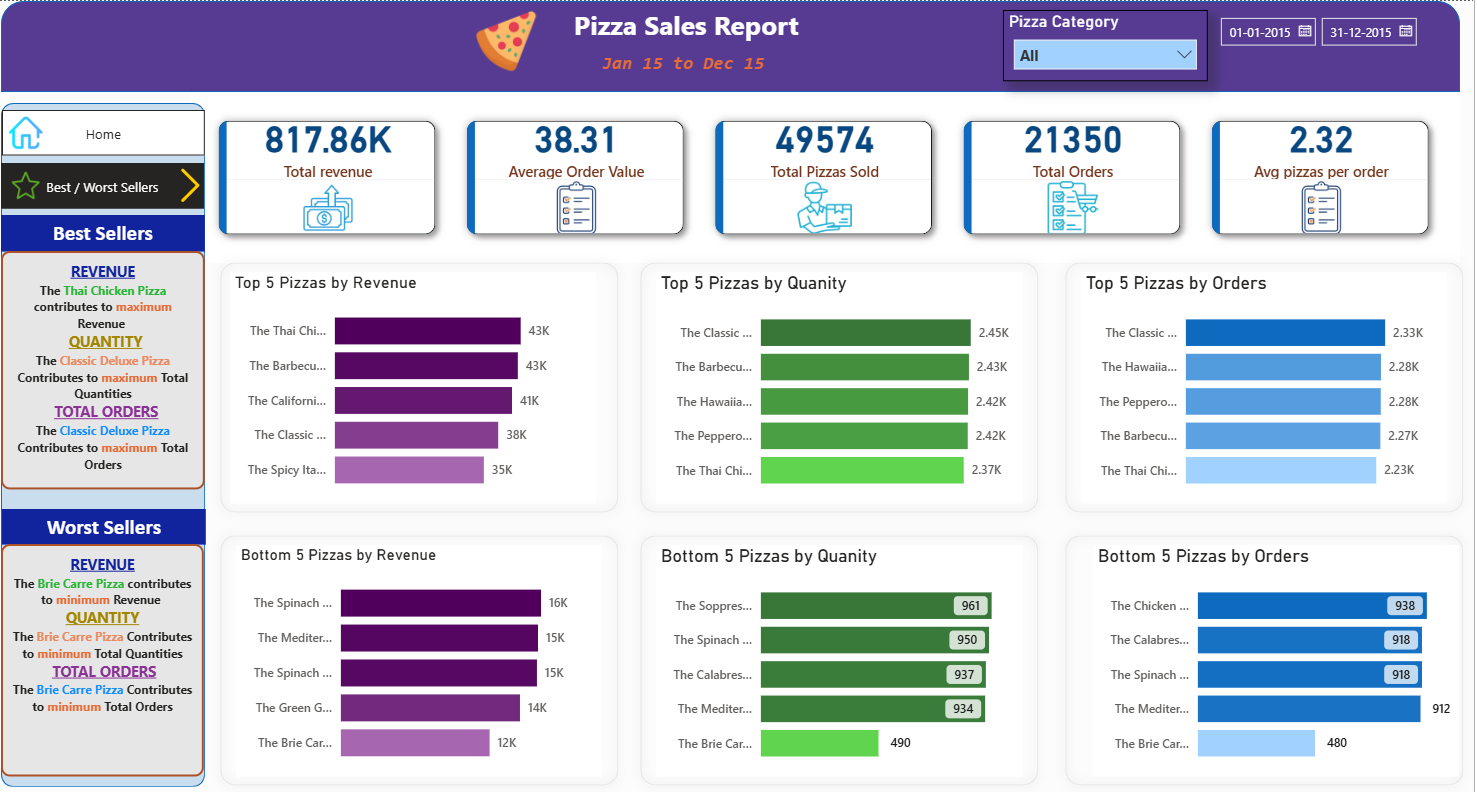

Layout of this report page (visuals, bound fields, positions):
{"tool":"powerbi","page":{"name":"Best / Worst Sellers","canvas":[1500,820],"ordinal":1},"visuals":[{"type":"cardVisual","fields":{"Data":["pizza_sales.Total revenue","pizza_sales.Average Order Value","pizza_sales.Total Pizzas Sold","pizza_sales.Total Orders","pizza_sales.Avg pizzas per order"]},"box":[201.2,92.4,1283.9,173.2],"z":0},{"type":"shape","box":[10.1,0,1474.7,92],"z":1000},{"type":"textbox","box":[584.2,0,252.2,46.2],"z":2000},{"type":"textbox","box":[612.5,46.5,185,40.4],"z":3000},{"type":"image","box":[481.3,9.2,79.3,62.7],"z":4000},{"type":"shape","box":[10.1,103.1,206.2,691.4],"z":5000},{"type":"textbox","box":[9.6,216.5,206,36.6],"z":6000},{"type":"textbox","box":[9.6,253.1,206,240.6],"z":7000},{"type":"textbox","box":[11.5,513,206,35.6],"z":8000},{"type":"textbox","box":[10.6,548.6,205,234.8],"z":9000},{"type":"slicer","title":"Pizza Category","fields":{"Values":["pizza_sales.pizza_category"]},"box":[1022.4,9.1,207.4,71.8],"z":10000},{"type":"slicer","fields":{"Values":["pizza_sales.order_date"]},"box":[1229.9,6.8,225.7,71.8],"z":11000},{"type":"shape","box":[220,253,425.2,275.8],"z":12000},{"type":"shape","box":[220,528.9,425.2,275.8],"z":13000},{"type":"shape","box":[645.1,253,425.2,275.8],"z":14000},{"type":"shape","box":[645.1,528.9,425.2,275.8],"z":15000},{"type":"shape","box":[1074.8,253,425.2,275.8],"z":16000},{"type":"shape","box":[1074.8,528.9,425.2,275.8],"z":17000},{"type":"barChart","title":"Top 5 Pizzas by Revenue","fields":{"Category":["pizza_sales.pizza_name"],"Y":["pizza_sales.Total revenue"]},"box":[241.6,273.6,370.4,233.7],"z":18000},{"type":"barChart","title":"Bottom 5 Pizzas by Revenue","fields":{"Category":["pizza_sales.pizza_name"],"Y":["pizza_sales.Total revenue"]},"box":[247.3,549.4,370.4,233.7],"z":19000},{"type":"barChart","title":"Top 5 Pizzas by Quanity","fields":{"Category":["pizza_sales.pizza_name"],"Y":["pizza_sales.Total Pizzas Sold"]},"box":[672.5,273.6,370.4,233.7],"z":20000},{"type":"barChart","title":"Bottom 5 Pizzas by Quanity","fields":{"Category":["pizza_sales.pizza_name"],"Y":["pizza_sales.Total Pizzas Sold"]},"box":[672.5,549.4,370.4,233.7],"z":21000},{"type":"barChart","title":"Top 5 Pizzas by Orders","fields":{"Category":["pizza_sales.pizza_name"],"Y":["pizza_sales.Total Orders"]},"box":[1102.2,273.6,370.4,233.7],"z":22000},{"type":"barChart","title":"Bottom 5 Pizzas by Orders","fields":{"Category":["pizza_sales.pizza_name"],"Y":["pizza_sales.Total Orders"]},"box":[1113.6,549.4,370.4,233.7],"z":23000},{"type":"pageNavigator","box":[11.5,109.7,206,46.2],"z":24000},{"type":"pageNavigator","box":[10.6,163.6,206,46.2],"z":25000},{"type":"image","box":[183.8,168.4,34.6,35.6],"z":26000},{"type":"image","box":[18.3,109.7,33.7,46.2],"z":27000},{"type":"image","box":[9.6,172.3,50,28.9],"z":28000}]}

Visuals, with their boxes in screenshot pixels (x1, y1, x2, y2), scaled from the page's 1500x820 canvas onto the 1477x792 screenshot:
cardVisual - pizza_sales.Total revenue x pizza_sales.Average Order Value: [198, 89, 1462, 257]
shape: [10, 0, 1462, 89]
textbox: [575, 0, 824, 45]
textbox: [603, 45, 785, 84]
image: [474, 9, 552, 69]
shape: [10, 100, 213, 767]
textbox: [9, 209, 212, 244]
textbox: [9, 244, 212, 477]
textbox: [11, 495, 214, 530]
textbox: [10, 530, 212, 757]
"Pizza Category" slicer: [1007, 9, 1211, 78]
slicer - pizza_sales.order_date: [1211, 7, 1433, 76]
shape: [217, 244, 635, 511]
shape: [217, 511, 635, 777]
shape: [635, 244, 1054, 511]
shape: [635, 511, 1054, 777]
shape: [1058, 244, 1476, 511]
shape: [1058, 511, 1476, 777]
"Top 5 Pizzas by Revenue" barChart: [238, 264, 603, 490]
"Bottom 5 Pizzas by Revenue" barChart: [244, 531, 608, 756]
"Top 5 Pizzas by Quanity" barChart: [662, 264, 1027, 490]
"Bottom 5 Pizzas by Quanity" barChart: [662, 531, 1027, 756]
"Top 5 Pizzas by Orders" barChart: [1085, 264, 1450, 490]
"Bottom 5 Pizzas by Orders" barChart: [1097, 531, 1461, 756]
pageNavigator: [11, 106, 214, 151]
pageNavigator: [10, 158, 213, 203]
image: [181, 163, 215, 197]
image: [18, 106, 51, 151]
image: [9, 166, 59, 194]
